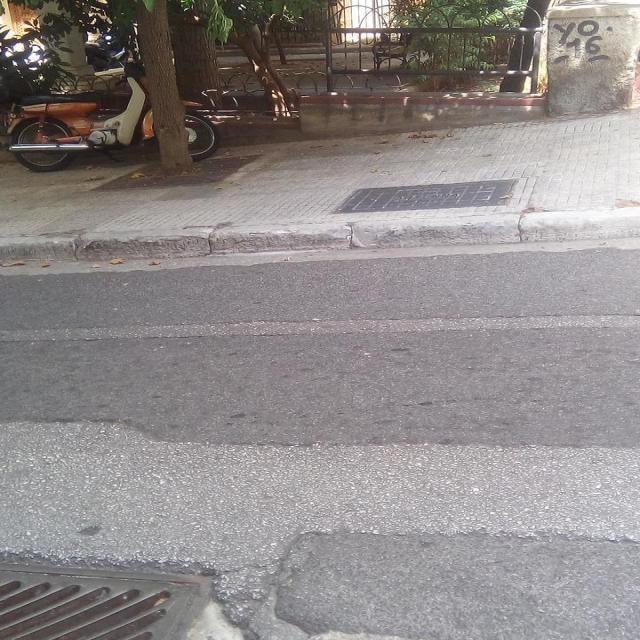nonspitting: (552, 19, 608, 62)
